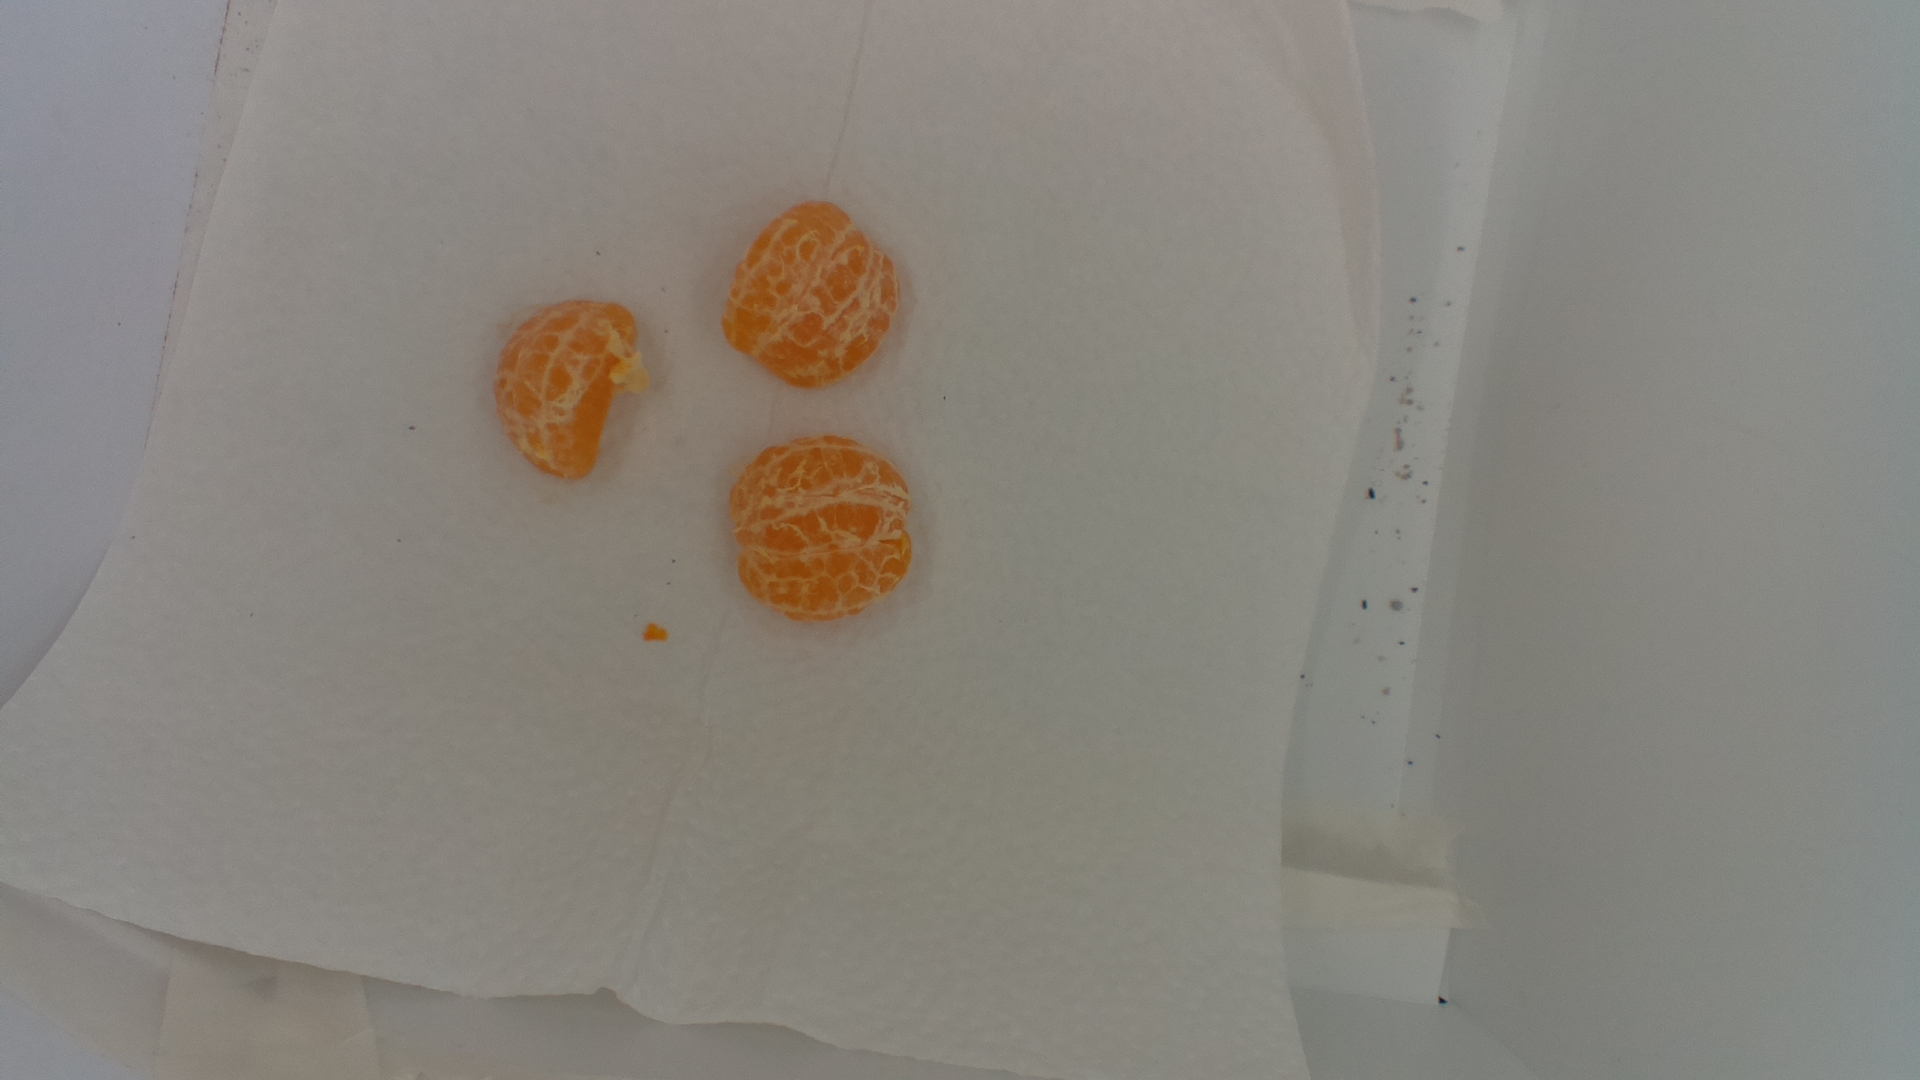fruit: (721, 191, 905, 390), (729, 438, 916, 632), (498, 291, 651, 487)
